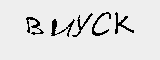В: (25, 13, 44, 40)
И: (49, 17, 77, 43)
К: (111, 10, 135, 41)
С: (93, 9, 116, 37)
У: (72, 13, 95, 44)
